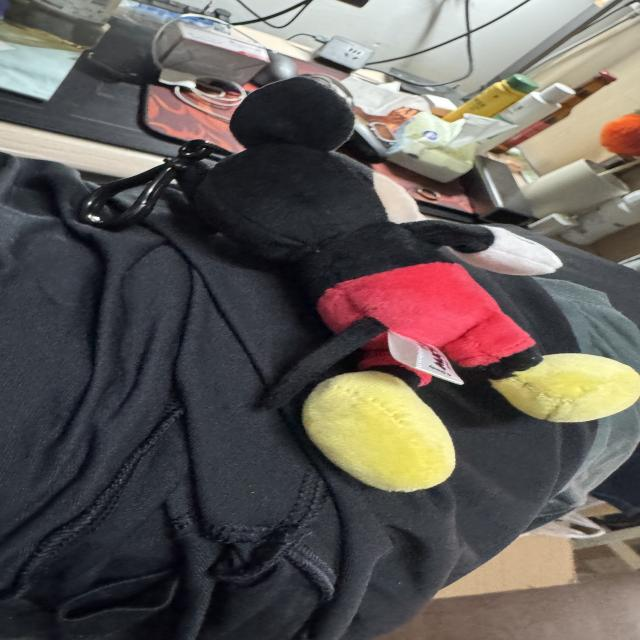mickey: (183, 77, 639, 491)
